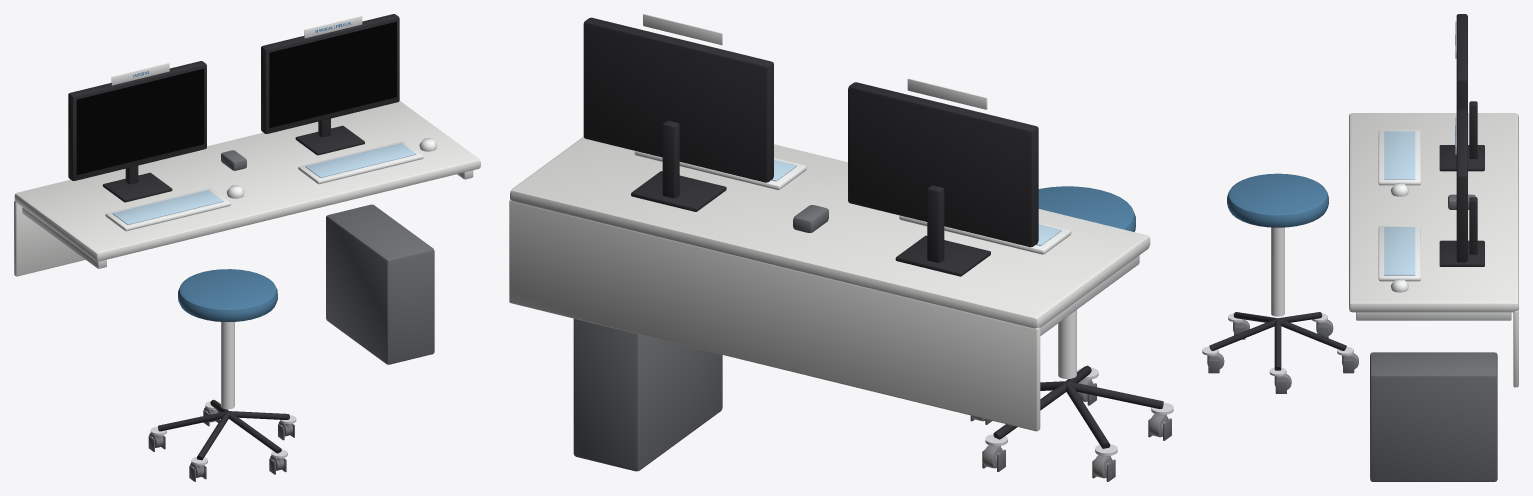
File: Workstation_TwoPC.fbx
3 views of the same model, side by side, from view 1: azimuth 30°, elevation 25°; view 2: azimuth 150°, elevation 25°; view 3: azimuth 270°, elevation 25° (orthographic). The views are drawn at different scales.
Parts seen in each view (by area): view 1: Workstation_TwoPC_Mesh, Workstation_TwoPC_Screen_pc_nurse, Workstation_TwoPC_Screen_pc_doctor; view 2: Workstation_TwoPC_Mesh; view 3: Workstation_TwoPC_Mesh.
Boxes of the visible parts, x1,y1,x2,y2 form: Workstation_TwoPC_Mesh: (14,14,480,481); Workstation_TwoPC_Screen_pc_nurse: (76,68,204,174); Workstation_TwoPC_Screen_pc_doctor: (269,21,396,128); Workstation_TwoPC_Mesh: (509,14,1173,481); Workstation_TwoPC_Mesh: (1202,14,1518,481).
Bounding box in the file's own units: 1.6 × 1.27 × 1.12.
